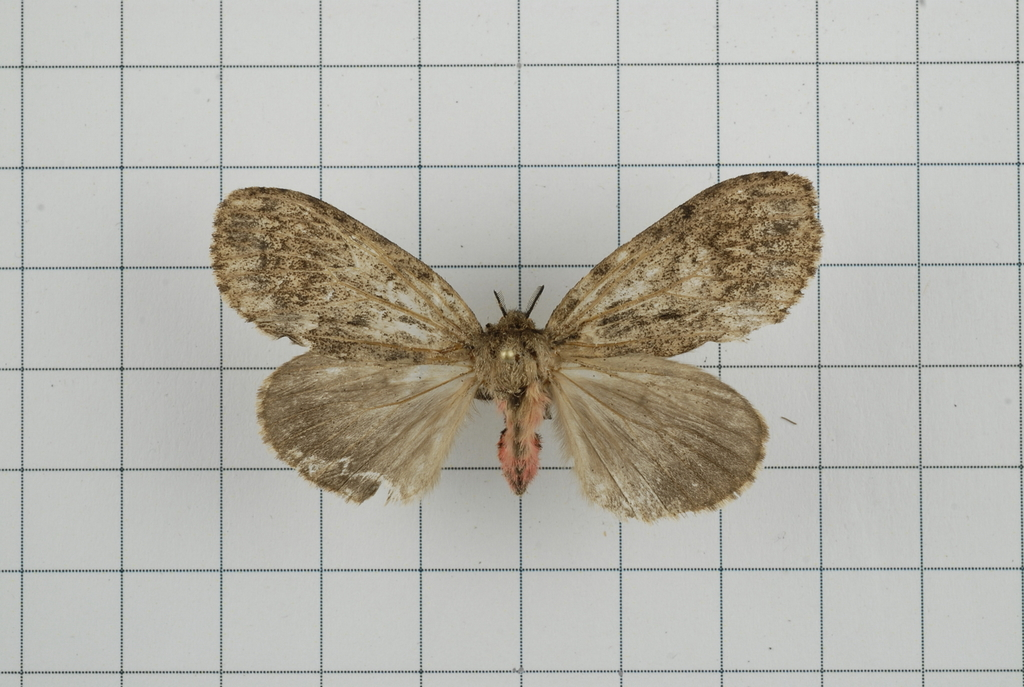Butterfly: (217, 158, 826, 535)
